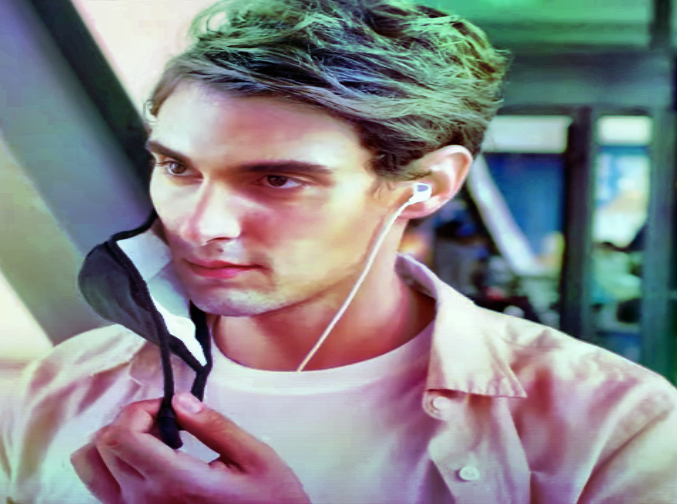mask_weared_incorrect: (74, 2, 492, 377)
